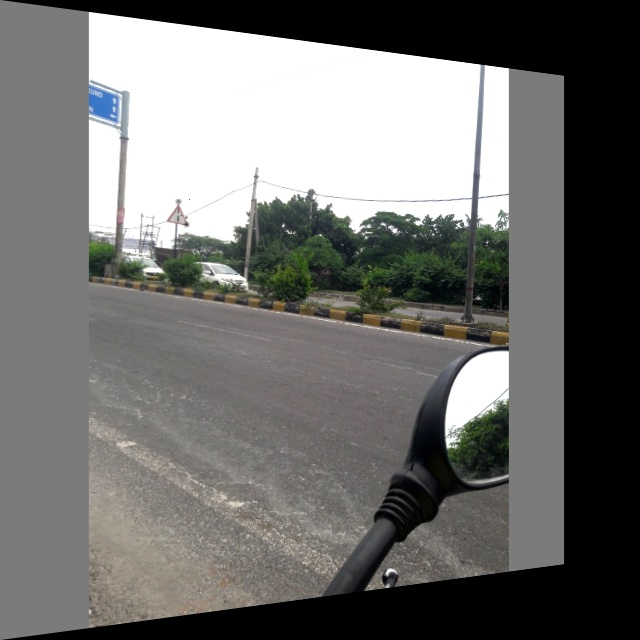Gap_in_Median: (165, 199, 191, 228)
